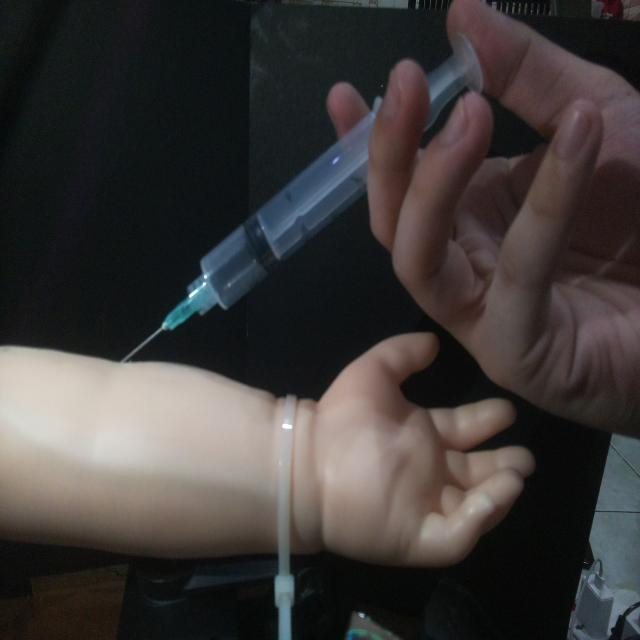30deg: (114, 30, 487, 366)
